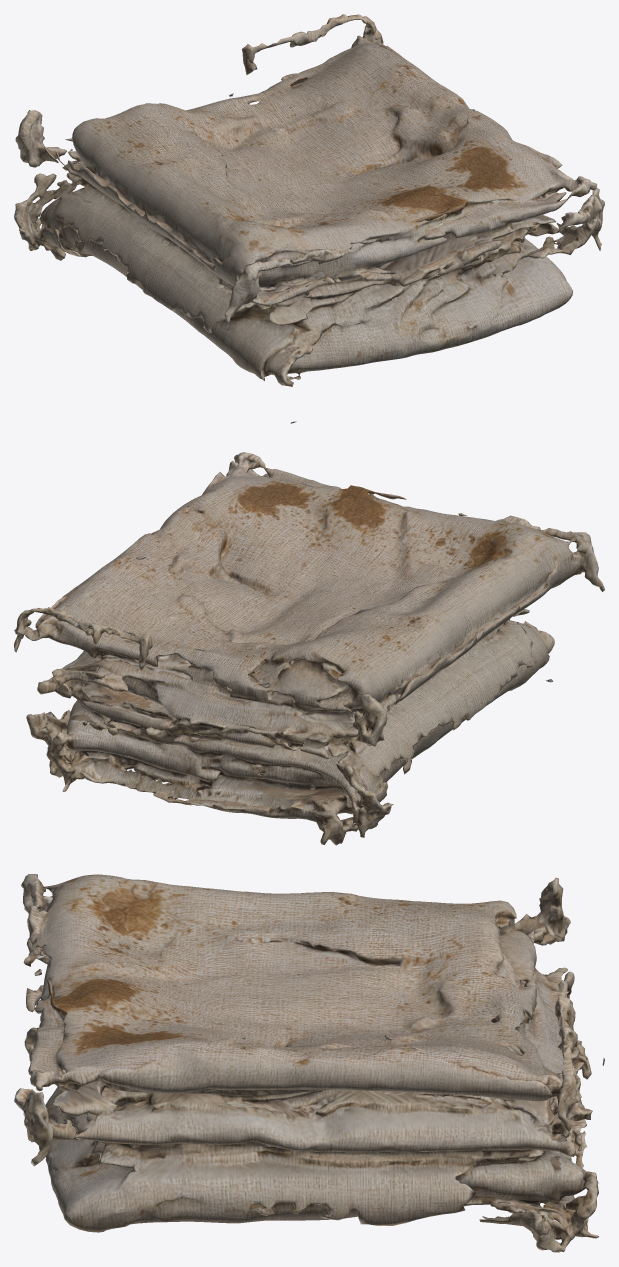
File: ClothRag.fbx
3 views of the same model, one above another, from view 1: azimuth 30°, elevation 25°; view 2: azimuth 150°, elevation 25°; view 3: azimuth 270°, elevation 25° (orthographic). The views are drawn at different scales.
Visible parts, largest first — view 1: texture_mapping; view 2: texture_mapping; view 3: texture_mapping.
Part boxes in pixels (x1,y1,x2,y2): texture_mapping: (14,14,604,423); texture_mapping: (14,452,604,845); texture_mapping: (14,874,604,1252).
Bounding box in the file's own units: 0.8767 × 0.9796 × 0.395.
Materials: 1 (1 with a texture image).
